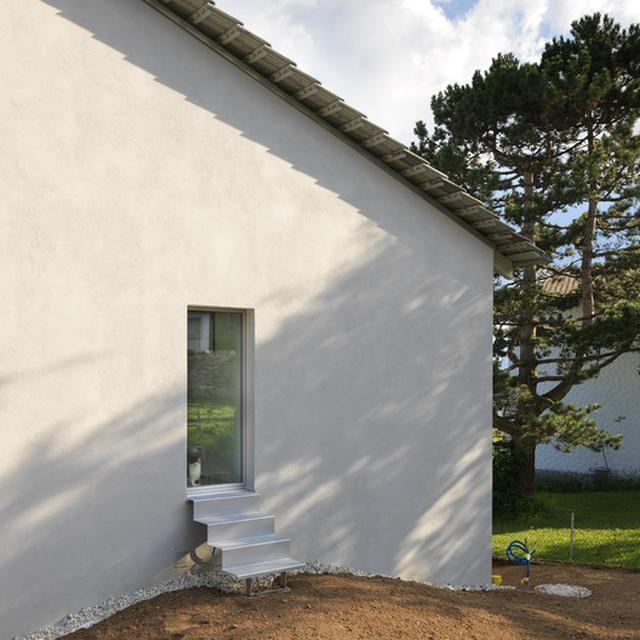building: (2, 0, 546, 640), (498, 264, 640, 486)
